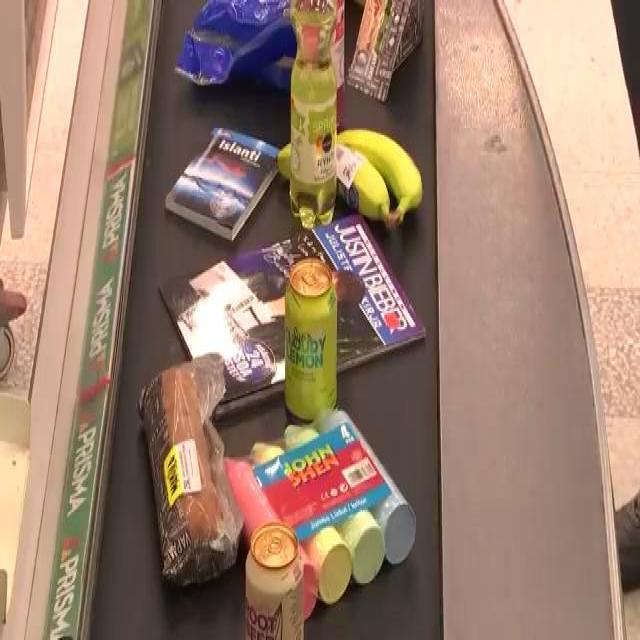beverage: (290, 0, 339, 228), (285, 262, 337, 424), (246, 517, 308, 640)
food-box: (137, 341, 245, 583), (179, 0, 333, 108), (348, 0, 430, 100), (294, 0, 352, 105)
fruit: (280, 140, 424, 222)
utility-box: (188, 220, 424, 394), (169, 135, 288, 238)
